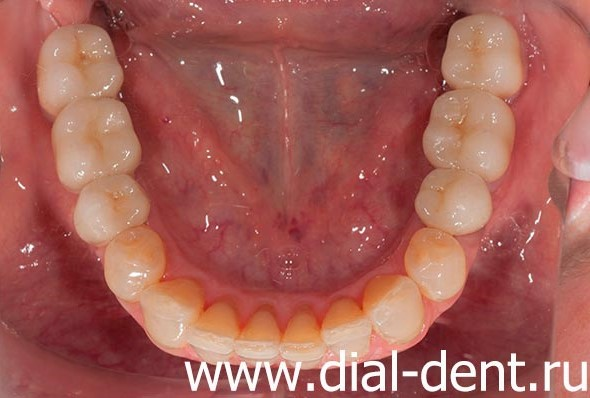LL1BC_healthy: (407, 229, 465, 297)
LL1M_healthy: (429, 92, 511, 173)
LL2BC_healthy: (417, 171, 493, 230)
LL2M_healthy: (447, 15, 520, 89)
LLCI_healthy: (282, 314, 324, 361)
LLC_healthy: (363, 276, 425, 340)
LLLI_healthy: (322, 303, 372, 347)
LR1BC_healthy: (107, 227, 162, 293)
LR1M_healthy: (53, 105, 137, 175)
LR2BC_healthy: (80, 177, 147, 234)
LR2M_decay: (38, 28, 121, 102)
LRCI_healthy: (240, 313, 278, 356)
LRC_healthy: (146, 280, 200, 339)
LRLI_healthy: (192, 304, 240, 355)
